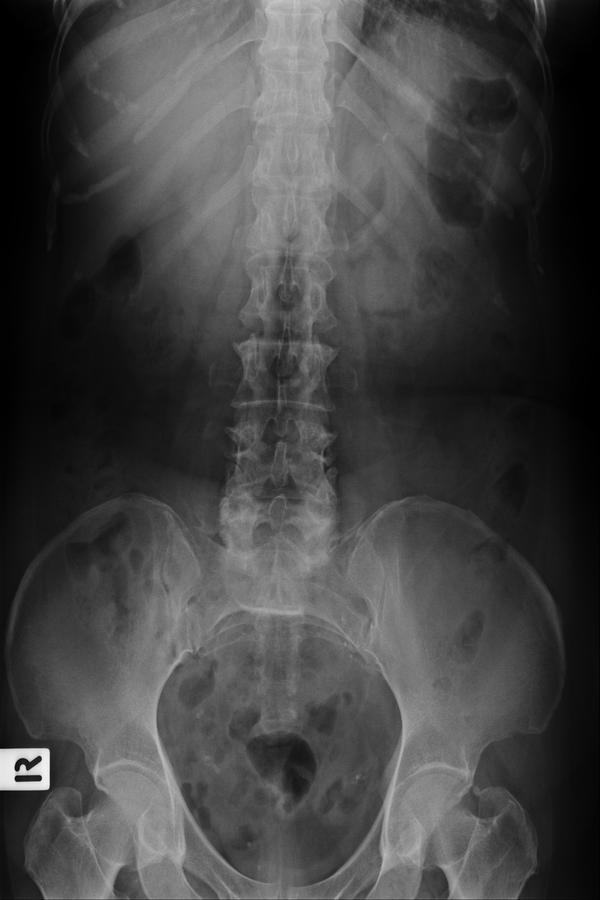lumbar scoliosis: (217, 8, 353, 573)
